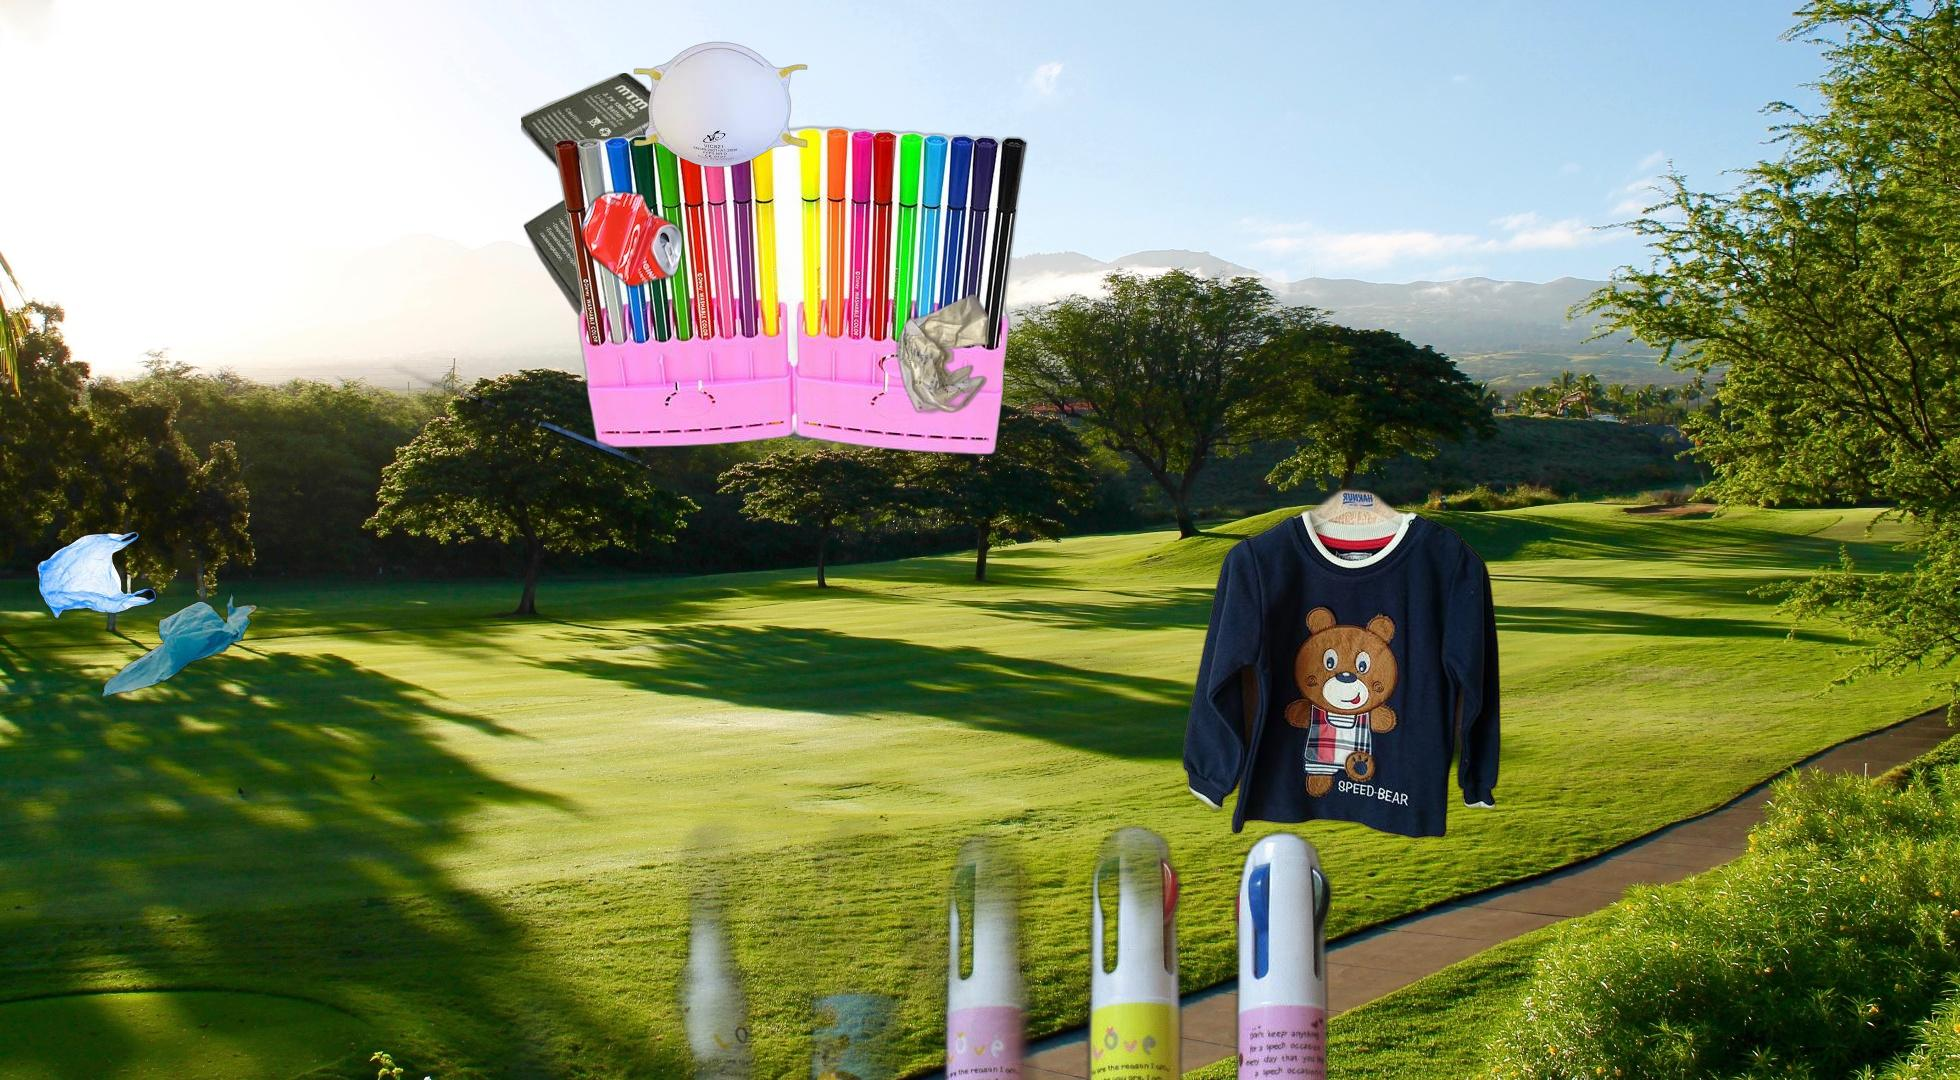battery: (521, 73, 723, 322)
clothes: (1181, 481, 1504, 845)
metal-cans: (387, 185, 747, 517)
paper: (894, 290, 995, 416)
penholder: (428, 783, 1452, 1080), (551, 122, 1032, 459)
plastic-bag: (35, 528, 261, 714)
trash: (632, 39, 810, 170)
